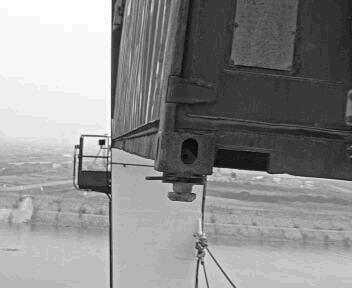twist_lock_1: (152, 169, 212, 208)
